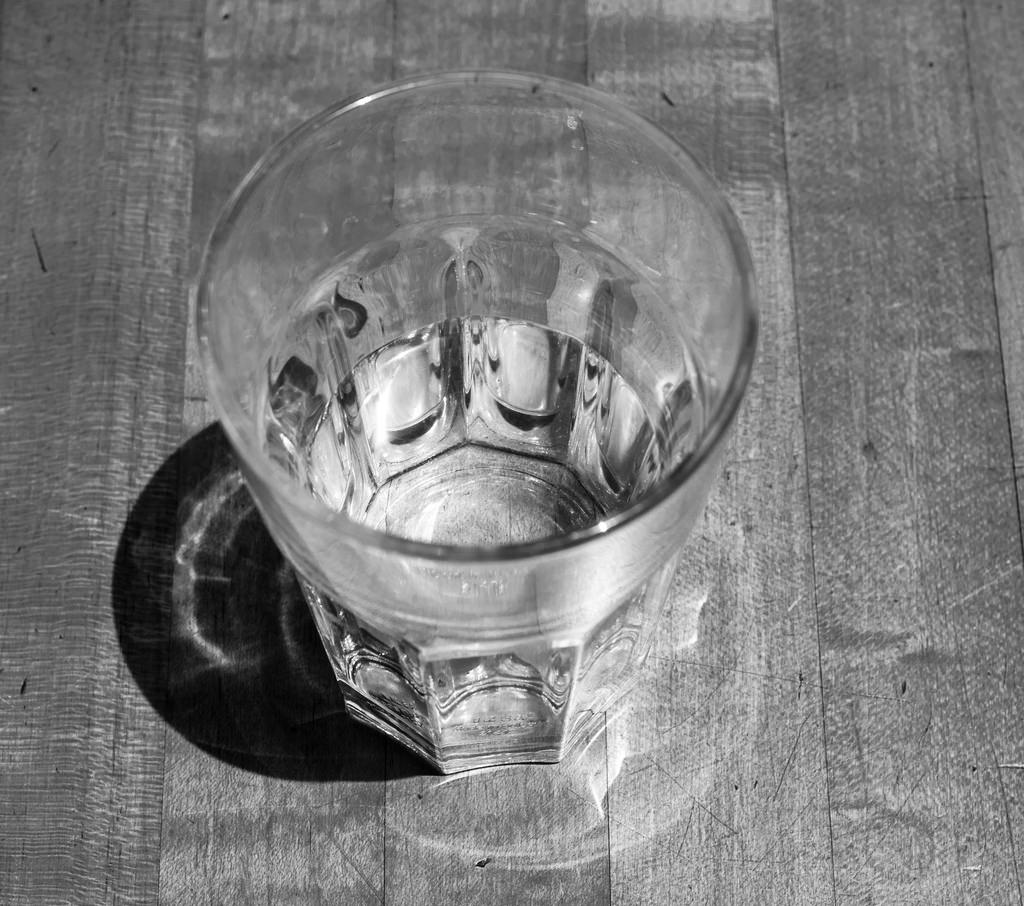glass of water: (199, 107, 750, 755)
